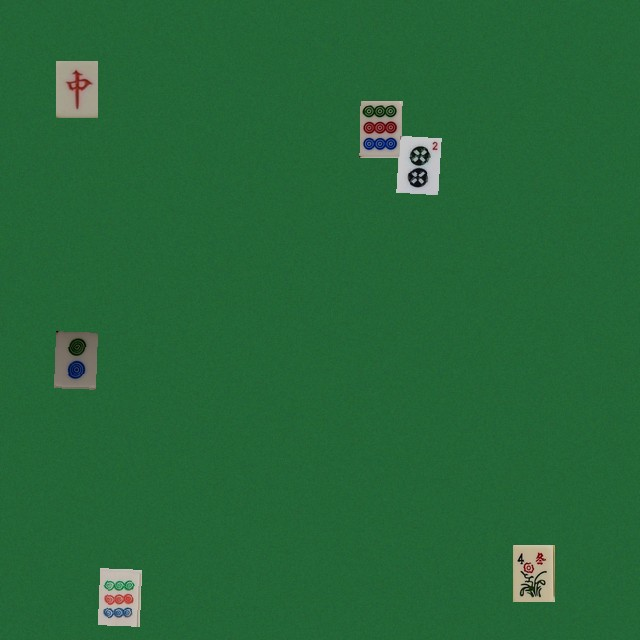tile: (97, 568, 139, 625), (512, 544, 554, 601), (53, 331, 95, 388), (55, 60, 97, 117), (359, 100, 401, 157), (396, 135, 438, 192)
